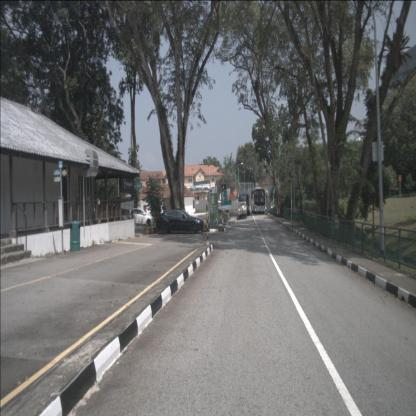human-pedestrian-adult: (206, 203, 208, 214)
vehicle-bus-rigid: (251, 187, 267, 214)
vehicle-car: (156, 209, 204, 234), (126, 208, 155, 227)
vehicle-truck: (238, 194, 250, 216), (268, 184, 279, 198), (238, 202, 247, 219)
